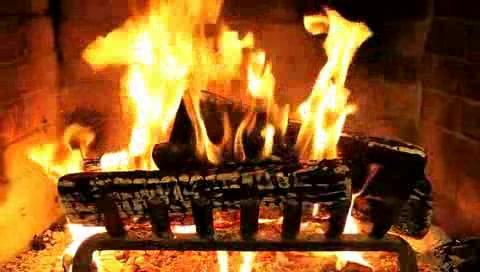fire: (99, 4, 359, 165)
